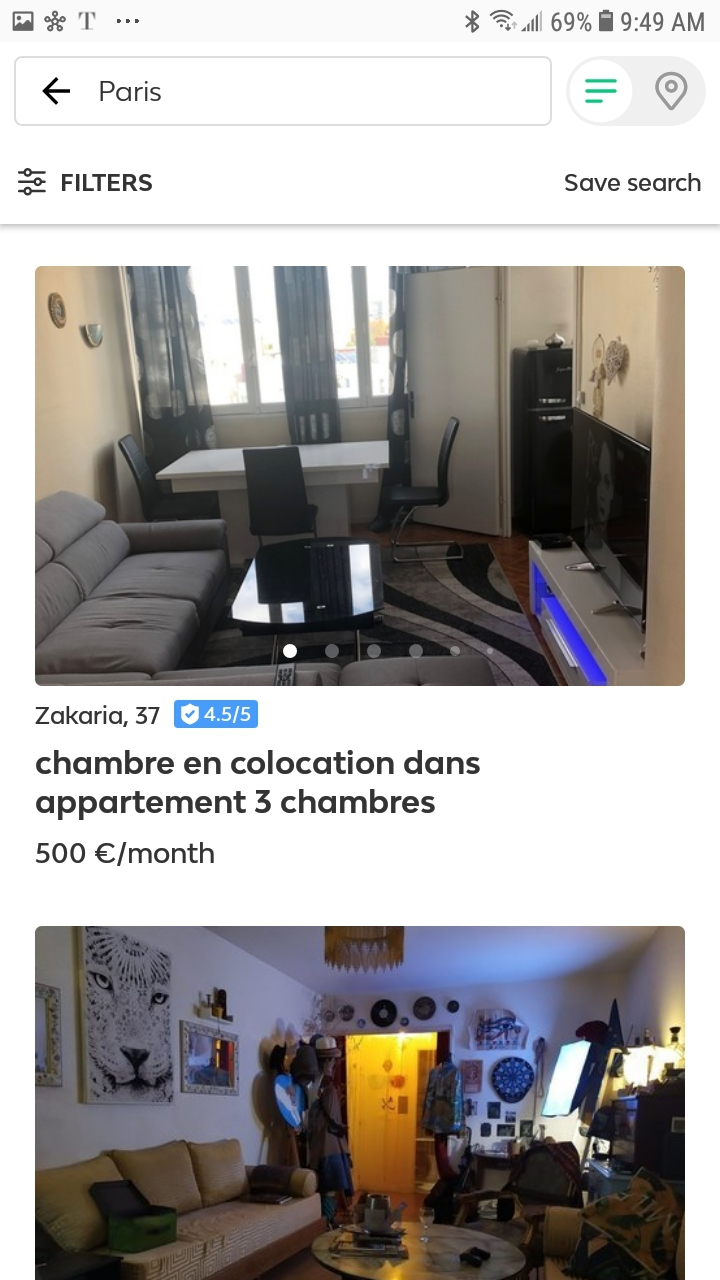EditText: (14, 57, 552, 127)
Icon: (569, 60, 632, 123), (654, 71, 688, 111), (19, 168, 47, 197), (43, 78, 71, 106)
Image: (36, 267, 686, 687), (36, 926, 686, 1280), (175, 700, 259, 729)
Text: (36, 750, 480, 821), (36, 842, 215, 867), (36, 705, 161, 728), (565, 173, 701, 192), (62, 174, 154, 193), (101, 82, 162, 102)
UpperTaskBar: (1, 1, 720, 43)
